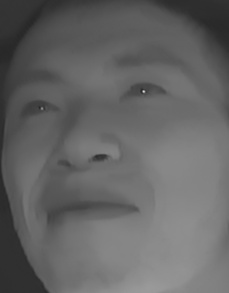eye: (120, 73, 172, 107), (13, 92, 64, 120)
mouth: (37, 180, 145, 236)
